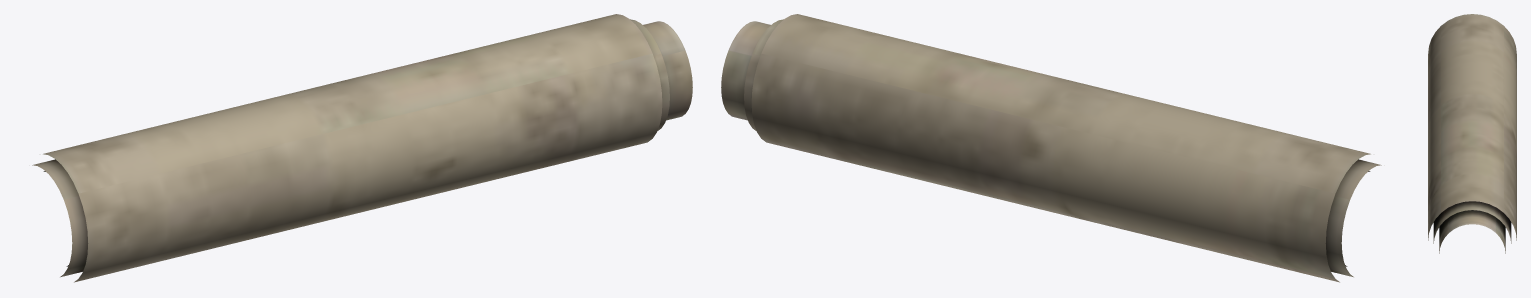
The model's file is SM_paper_03.glb.
The picture shows the model from 3 angles, left to right: view 1: azimuth 30°, elevation 25°; view 2: azimuth 150°, elevation 25°; view 3: azimuth 270°, elevation 25°; orthographic projection. The views are drawn at different scales.
Parts seen in each view (by area): view 1: SM_paper_03; view 2: SM_paper_03; view 3: SM_paper_03.
Part boxes in pixels (x1,y1,x2,y2): SM_paper_03: [32, 14, 692, 282]; SM_paper_03: [721, 14, 1381, 282]; SM_paper_03: [1428, 14, 1516, 253].
Size of the model in its own units: 0.3279 by 0.0604 by 0.0604.
1 material, 1 textured.
